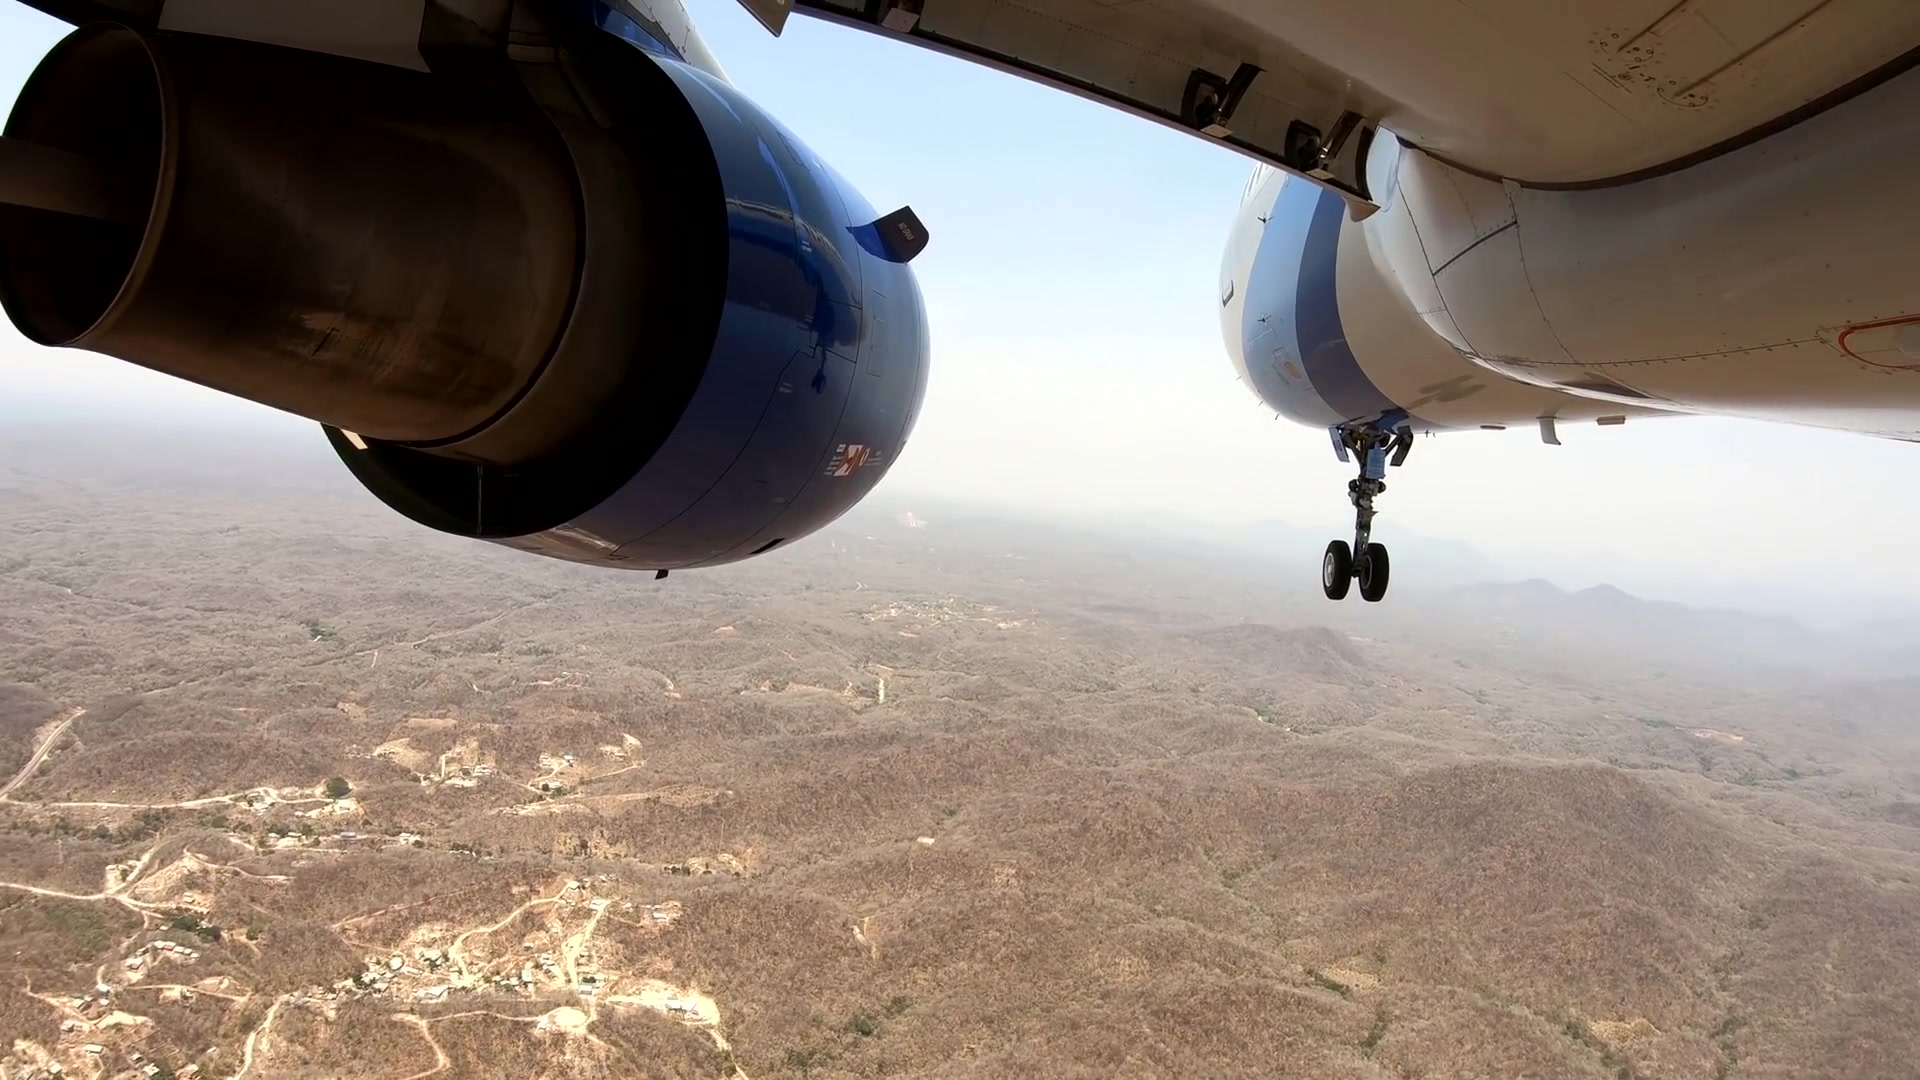runway: (905, 512, 922, 533)
